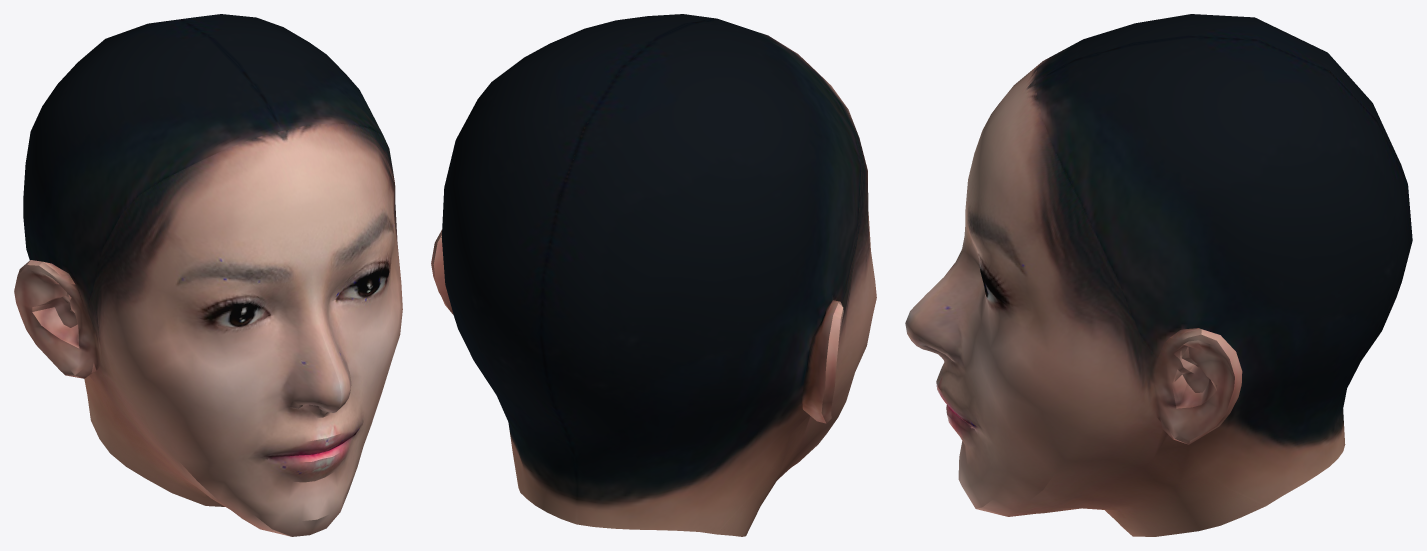
The model's file is face_xin.obj.
3 renders of one model, left to right at view 1: azimuth 30°, elevation 25°; view 2: azimuth 150°, elevation 25°; view 3: azimuth 270°, elevation 25°, orthographic. The views are drawn at different scales.
Visible parts, largest first — view 1: face_xin:face_normal face_xin:polySurface1; view 2: face_xin:face_normal face_xin:polySurface1; view 3: face_xin:face_normal face_xin:polySurface1.
Boxes of the visible parts, x1,y1,x2,y2 form: face_xin:face_normal face_xin:polySurface1: [14, 14, 402, 536]; face_xin:face_normal face_xin:polySurface1: [431, 14, 876, 536]; face_xin:face_normal face_xin:polySurface1: [905, 14, 1412, 536].
Size of the model in its own units: 18.77 by 22.64 by 21.27.
1 material, 1 textured.
